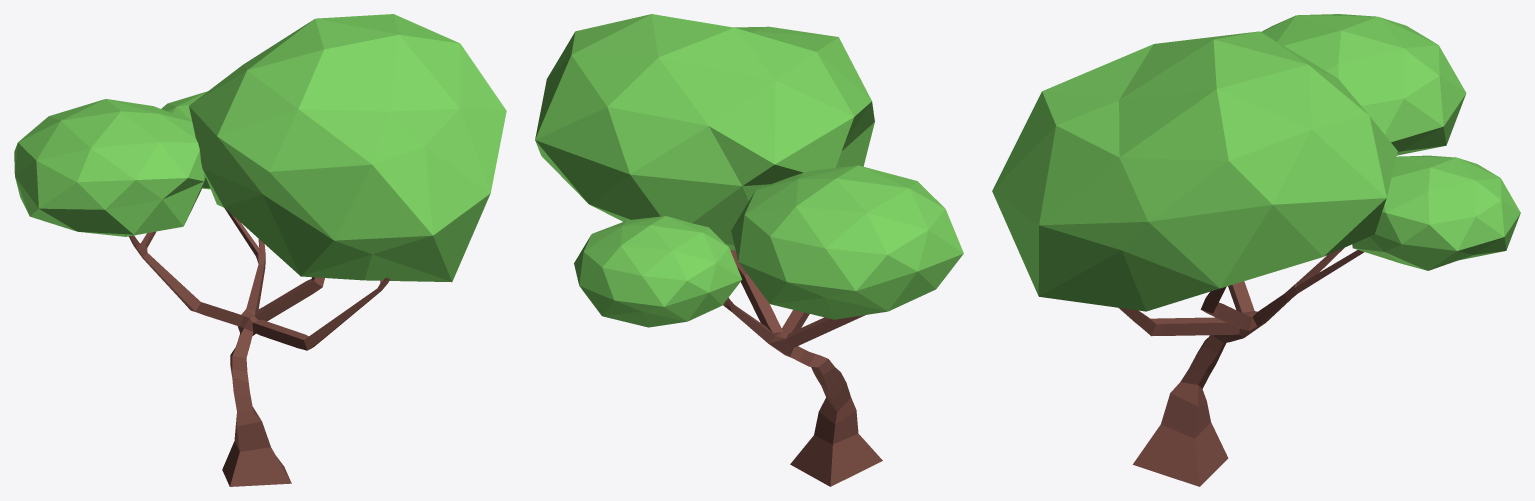
Rendered from Arvore.fbx.
3 renders of one model, left to right at view 1: azimuth 30°, elevation 25°; view 2: azimuth 150°, elevation 25°; view 3: azimuth 270°, elevation 25°, orthographic. The views are drawn at different scales.
Visible parts, largest first — view 1: Icosphere.002; view 2: Icosphere.002; view 3: Icosphere.002.
Part boxes in pixels (left/top/right/bottom): Icosphere.002: left=14, top=14, right=506, bottom=486; Icosphere.002: left=535, top=14, right=963, bottom=486; Icosphere.002: left=992, top=14, right=1520, bottom=486.
Size of the model in its own units: 466 by 440 by 445.
Materials: 1 (1 with a texture image).
